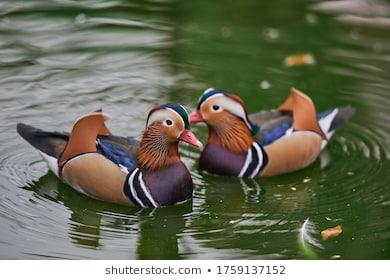duck: (11, 95, 206, 217), (187, 80, 361, 186)
